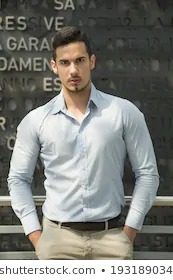F_belt: (46, 213, 119, 233)
F_shirt: (7, 86, 158, 237)
